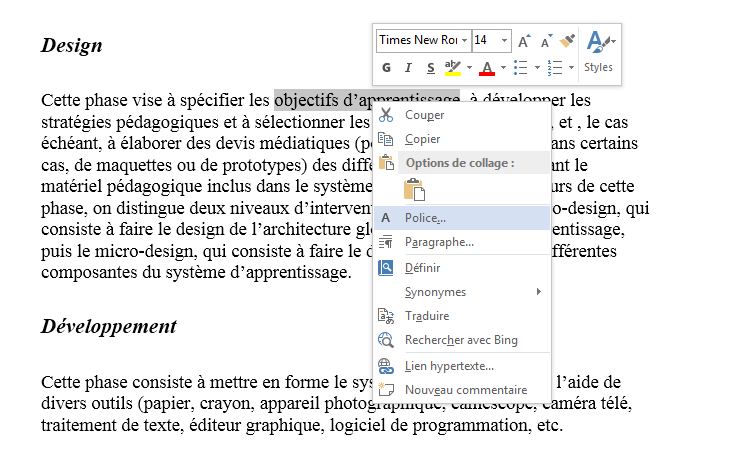texte: (40, 312, 177, 342), (295, 201, 437, 222), (231, 265, 351, 282), (325, 396, 445, 413), (405, 273, 466, 306), (344, 93, 460, 110), (413, 419, 531, 435), (116, 115, 218, 132), (95, 244, 197, 261), (107, 179, 202, 196), (42, 266, 137, 282), (260, 136, 349, 153), (223, 159, 307, 175), (246, 418, 324, 435), (406, 158, 514, 170), (252, 222, 350, 235), (42, 115, 111, 132), (256, 115, 345, 128), (117, 201, 184, 218), (553, 201, 620, 218), (553, 223, 624, 239), (40, 38, 102, 56), (97, 160, 171, 175), (181, 93, 244, 110), (275, 93, 338, 110), (484, 93, 566, 106), (314, 179, 372, 196), (167, 265, 225, 282), (261, 396, 319, 413), (379, 35, 487, 44), (330, 418, 385, 435), (41, 419, 116, 431), (465, 22, 493, 54), (138, 397, 194, 413), (552, 244, 616, 257), (41, 179, 102, 192), (41, 201, 87, 218), (42, 136, 102, 149), (121, 136, 181, 149), (42, 222, 101, 235), (452, 404, 536, 413), (581, 136, 637, 149), (85, 93, 127, 110), (177, 222, 219, 239), (85, 375, 127, 392), (232, 245, 291, 257), (406, 237, 465, 249), (133, 376, 192, 388), (417, 22, 439, 54), (200, 400, 254, 413), (353, 379, 394, 396), (543, 396, 596, 409), (190, 418, 241, 431), (431, 361, 485, 373), (406, 335, 464, 346), (285, 375, 329, 388), (42, 396, 86, 409), (210, 376, 257, 388), (482, 60, 517, 76), (457, 386, 527, 394), (208, 179, 251, 192), (441, 22, 458, 54), (557, 375, 598, 388), (230, 205, 289, 214), (587, 31, 616, 49), (92, 396, 132, 409), (406, 385, 452, 396), (216, 136, 254, 149), (405, 311, 449, 322), (404, 178, 425, 201), (190, 201, 226, 214), (144, 419, 183, 431), (42, 94, 80, 106), (406, 110, 444, 122), (42, 376, 80, 388), (378, 308, 394, 336), (257, 179, 290, 192), (310, 244, 343, 257), (405, 134, 440, 146), (120, 222, 152, 235), (600, 180, 634, 192), (626, 201, 649, 218), (203, 244, 226, 261), (342, 158, 372, 171), (41, 248, 71, 261), (601, 396, 631, 409), (405, 263, 440, 274), (448, 60, 472, 76), (187, 136, 210, 149), (313, 158, 336, 171), (349, 244, 372, 257), (355, 137, 372, 153), (132, 97, 162, 106), (585, 63, 612, 73), (495, 335, 517, 347), (538, 420, 562, 431), (383, 63, 412, 72), (378, 358, 394, 374), (250, 93, 269, 106), (571, 93, 590, 106), (350, 115, 369, 128), (383, 106, 391, 136), (378, 260, 393, 276), (356, 222, 370, 239), (42, 162, 68, 171), (143, 265, 161, 278), (560, 117, 581, 128), (405, 361, 426, 372), (378, 132, 393, 146), (379, 156, 394, 170), (75, 158, 91, 171), (201, 158, 217, 171), (578, 179, 594, 192), (230, 222, 246, 235), (604, 375, 620, 388), (122, 418, 138, 431), (391, 418, 407, 431), (605, 119, 628, 128), (552, 140, 575, 149), (560, 34, 575, 47), (378, 336, 394, 348), (552, 183, 572, 192), (552, 161, 569, 171), (158, 222, 171, 235), (519, 34, 531, 47), (224, 116, 237, 128), (587, 115, 599, 128), (575, 158, 587, 171), (296, 179, 308, 192), (78, 244, 90, 257), (335, 375, 347, 388), (178, 162, 195, 171), (94, 205, 111, 214), (263, 379, 280, 388), (542, 34, 553, 47), (468, 338, 490, 344), (242, 115, 250, 128), (168, 93, 175, 106), (108, 136, 115, 149), (107, 222, 114, 235), (297, 244, 304, 257), (198, 375, 205, 388), (471, 93, 477, 101), (537, 288, 541, 295), (502, 39, 507, 42), (437, 223, 440, 224)
